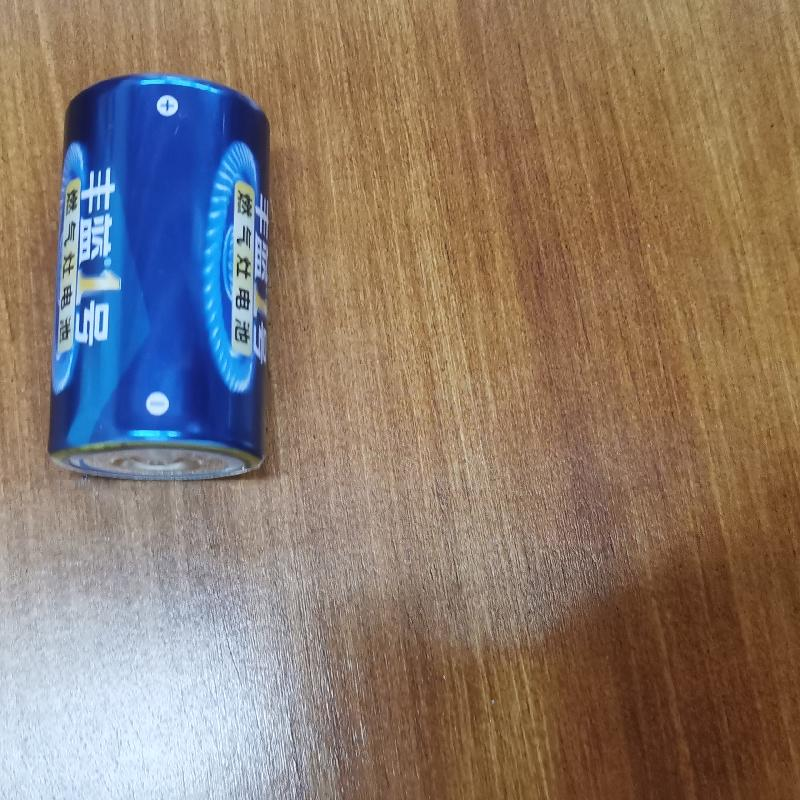battery: (42, 70, 278, 484)
